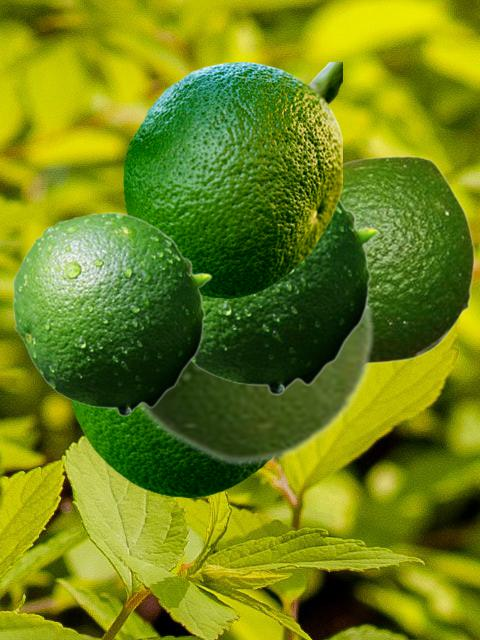dalandan: (123, 62, 341, 297), (136, 283, 375, 467), (12, 211, 211, 416), (191, 199, 378, 395), (341, 155, 474, 364), (68, 400, 266, 496)
